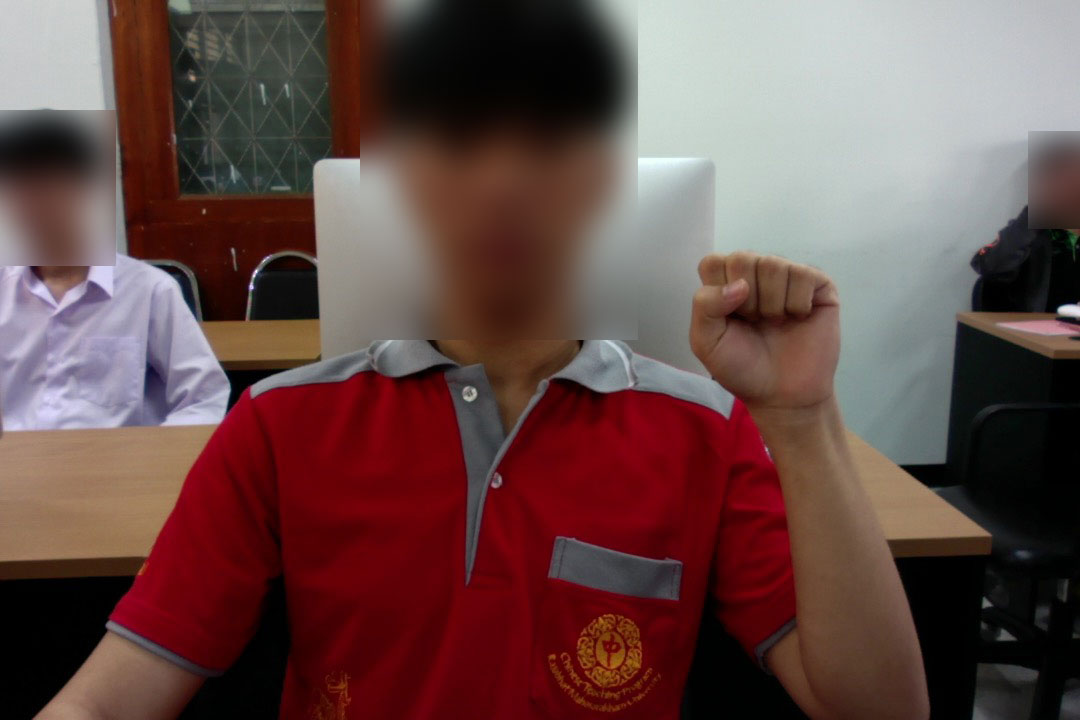sor: (677, 240, 848, 447)
